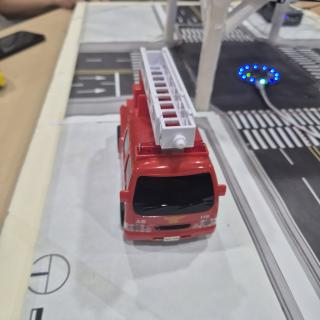Fire_truck: (117, 48, 226, 241)
